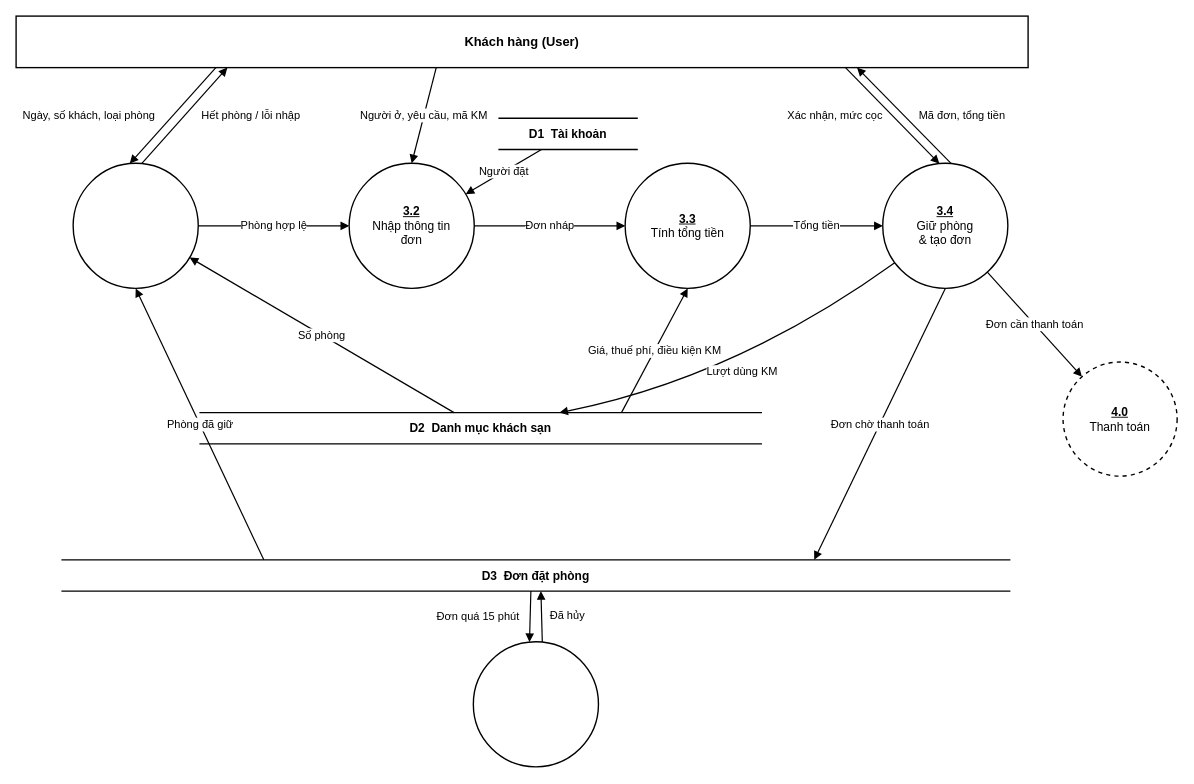
Some shapes in this 1194 by 784 pixel diagram are drawn without their labels. Each missing label, with the box of its shape:
3.1 Kiểm tra phòng trống: (72, 162, 199, 289)
3.5 Hủy đơn quá hạn: (472, 641, 599, 767)
